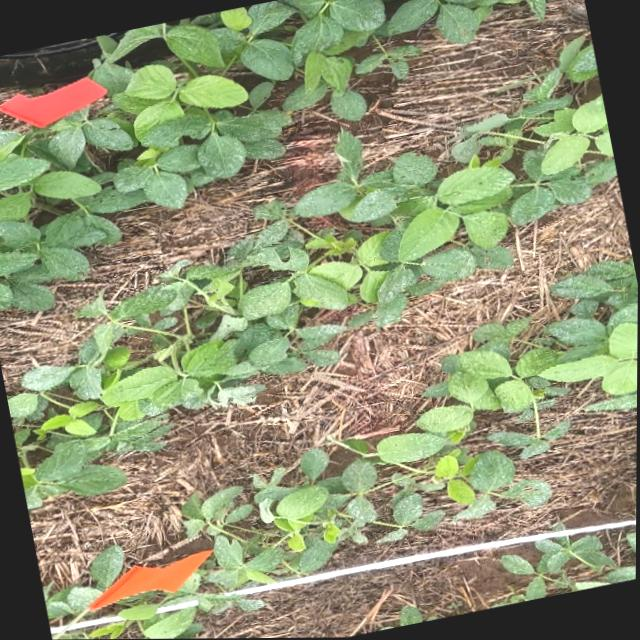soy_plant: (7, 42, 617, 508), (53, 263, 638, 640), (0, 0, 514, 311), (493, 529, 637, 609), (66, 547, 124, 613)
